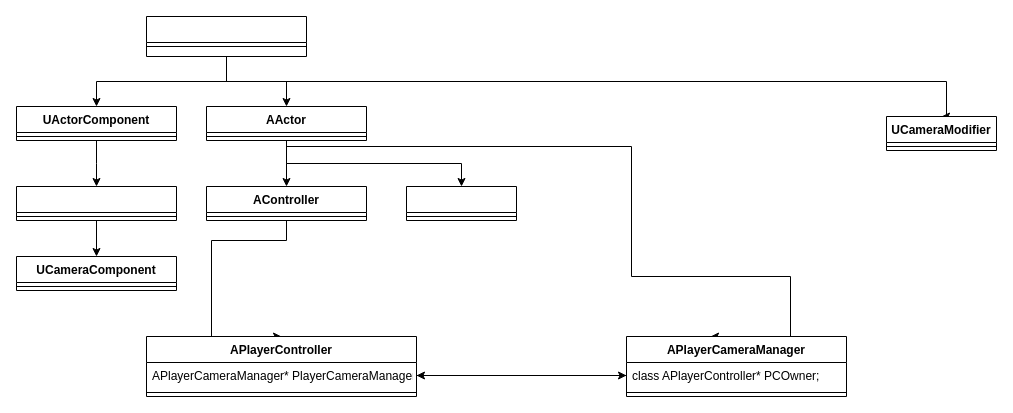
Some shapes in this 1013 by 413 pixel diagram are drawn without their labels. Each missing label, with the centre of its shape:
ACameraActor: the point at 461,203
UObject: the point at 226,36
USceneComponent: the point at 96,203
